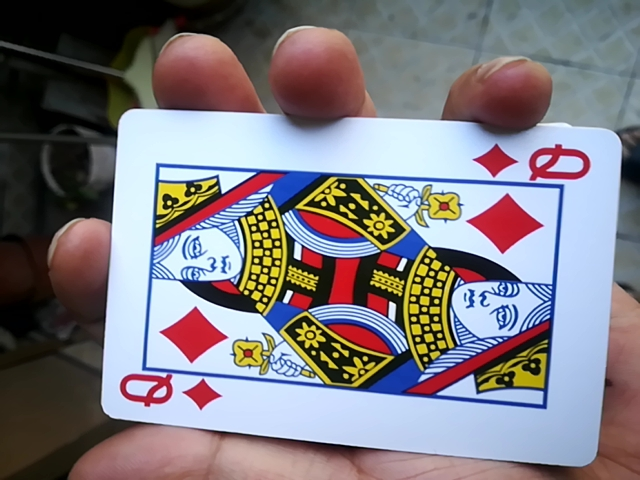fk q: (85, 103, 635, 463)
